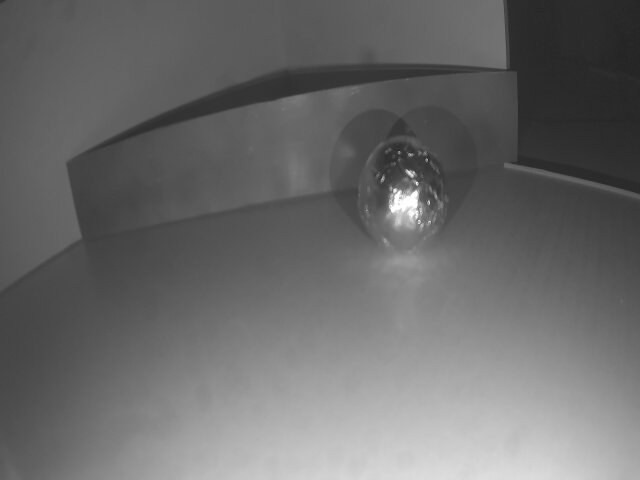Green: (80, 71, 515, 243)
Live: (358, 138, 451, 251)
